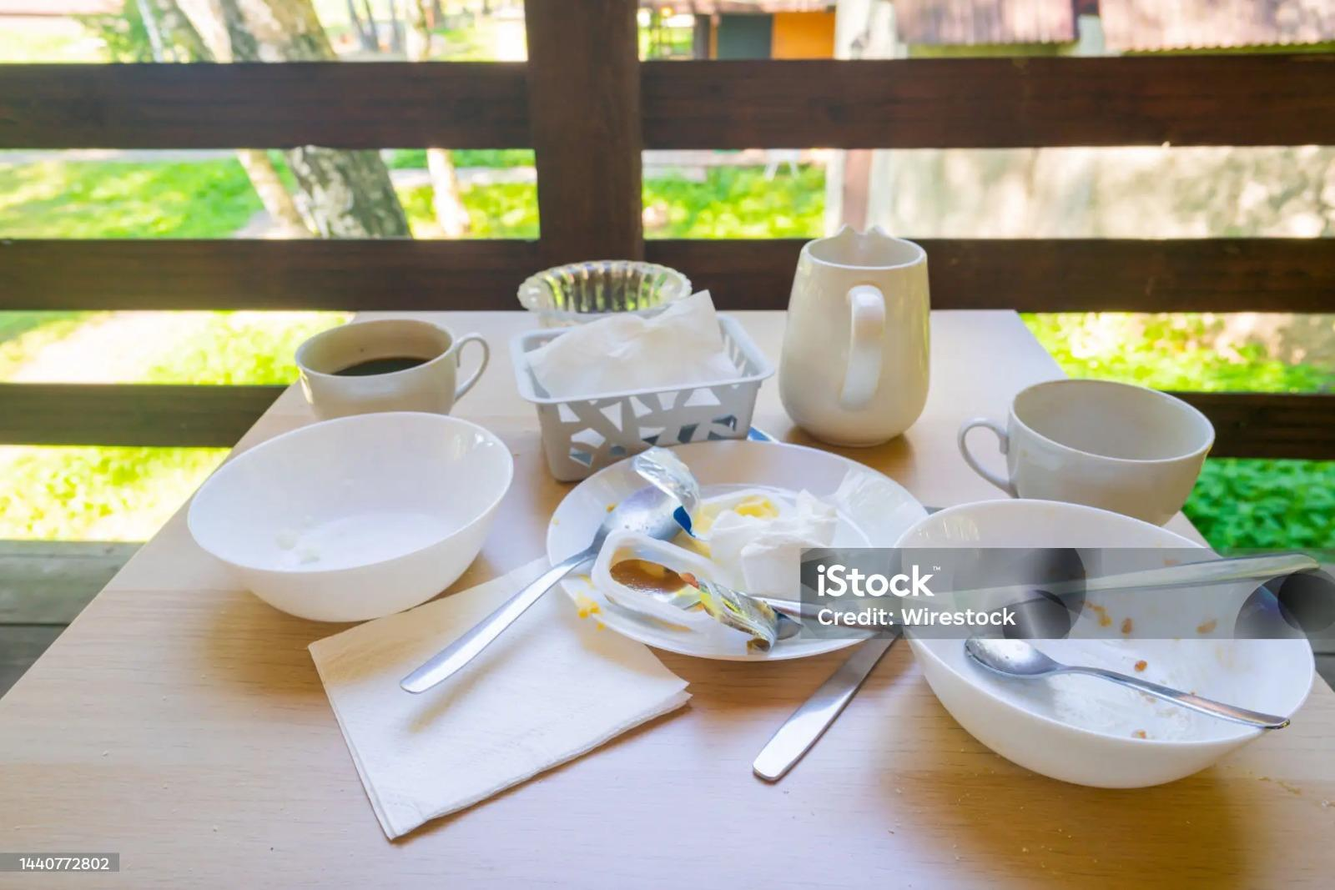Messy Table: (21, 214, 1335, 890)
